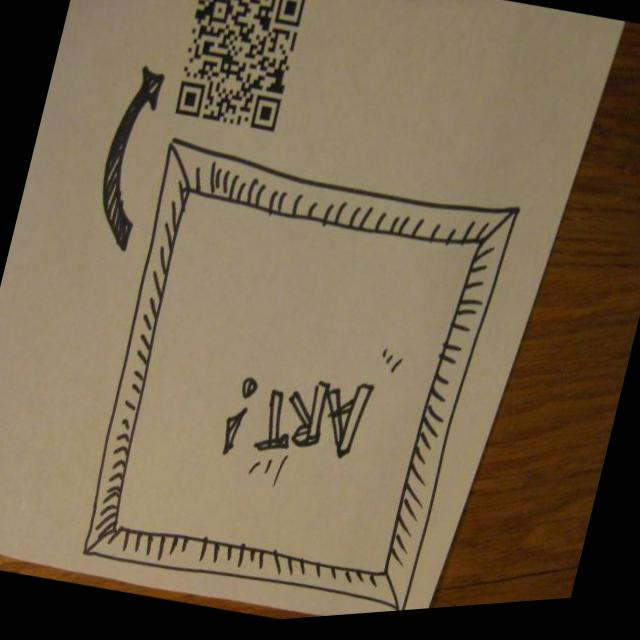qrcode: (169, 1, 306, 141)
